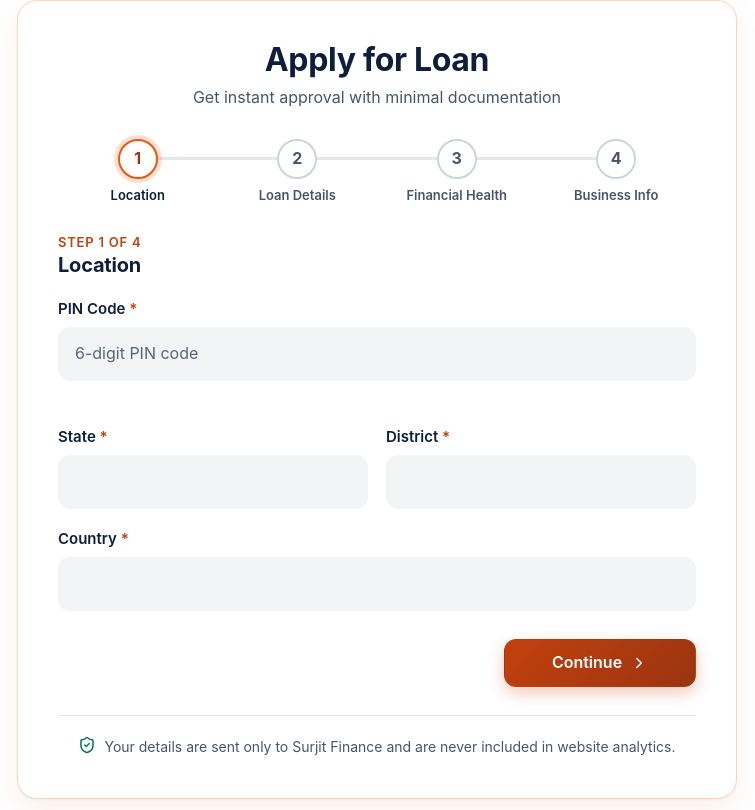
Test: Step 1 — Location › a malformed PIN is rejected
Type "12345" into the field labelled "PIN Code *". click: [377, 354]
box: [59, 328, 695, 380]
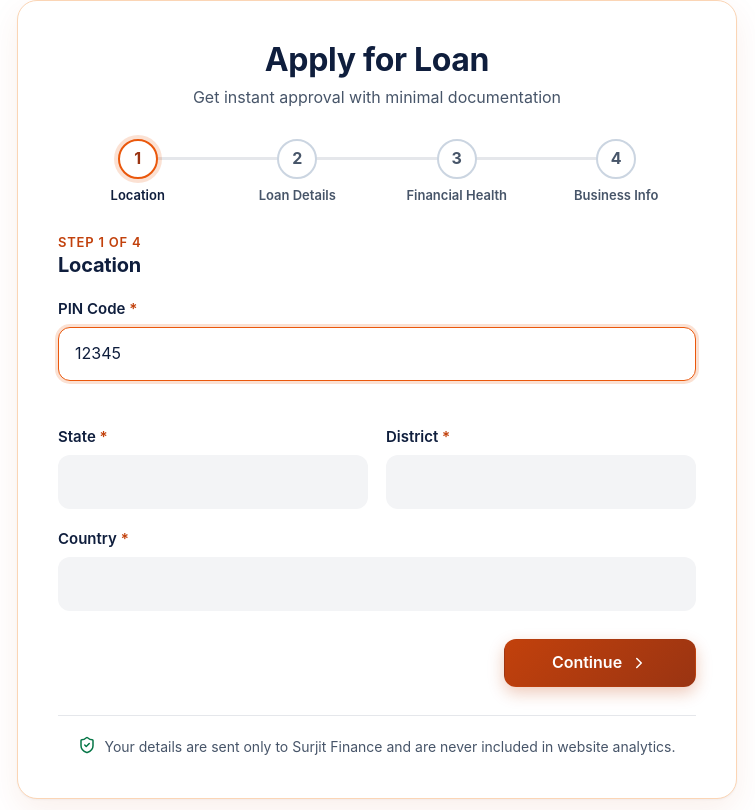
Click the button "Continue". click: [600, 663]
box: [504, 639, 696, 687]
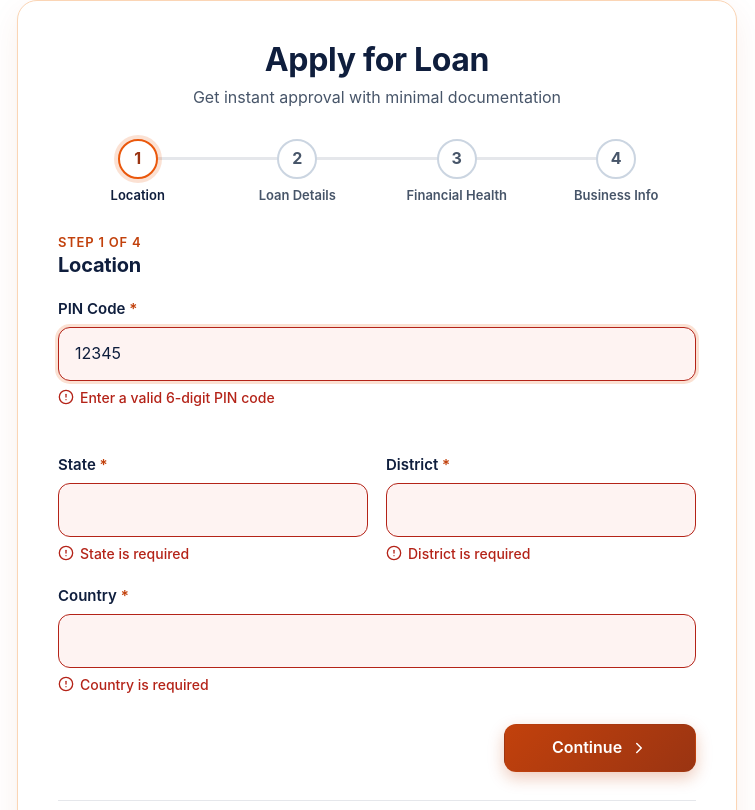
Now the text "Enter a valid 6-digit PIN code" is shown, box [80, 387, 275, 409]
